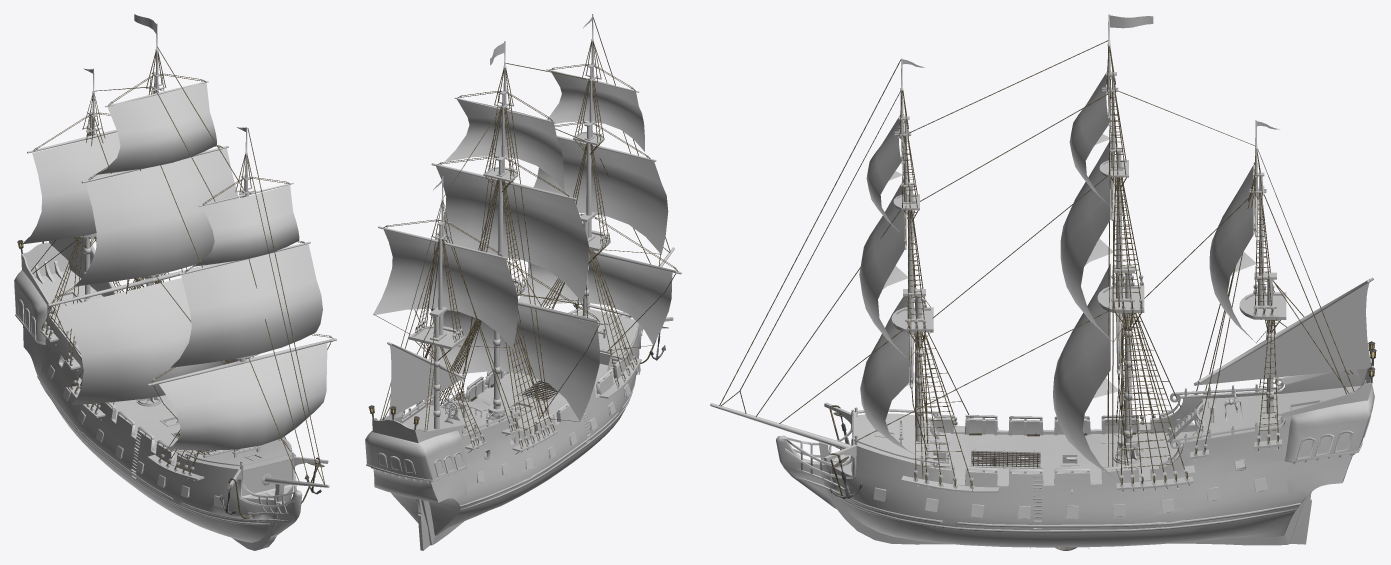
Rendered from Ship.fbx.
3 views of the same model, side by side, from view 1: azimuth 30°, elevation 25°; view 2: azimuth 150°, elevation 25°; view 3: azimuth 270°, elevation 25° (orthographic). The views are drawn at different scales.
Parts seen in each view (by area): view 1: Sailboat; view 2: Sailboat; view 3: Sailboat.
Part boxes in pixels (left/top/right/bottom): Sailboat: left=14, top=14, right=336, bottom=550; Sailboat: left=365, top=14, right=681, bottom=550; Sailboat: left=710, top=14, right=1376, bottom=547.
Size of the model in its own units: 1311 by 2767 by 3114.
